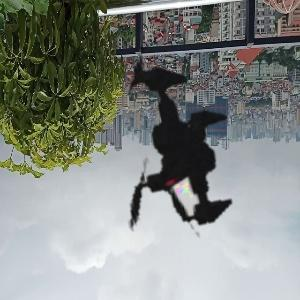drone: (29, 14, 300, 285)
